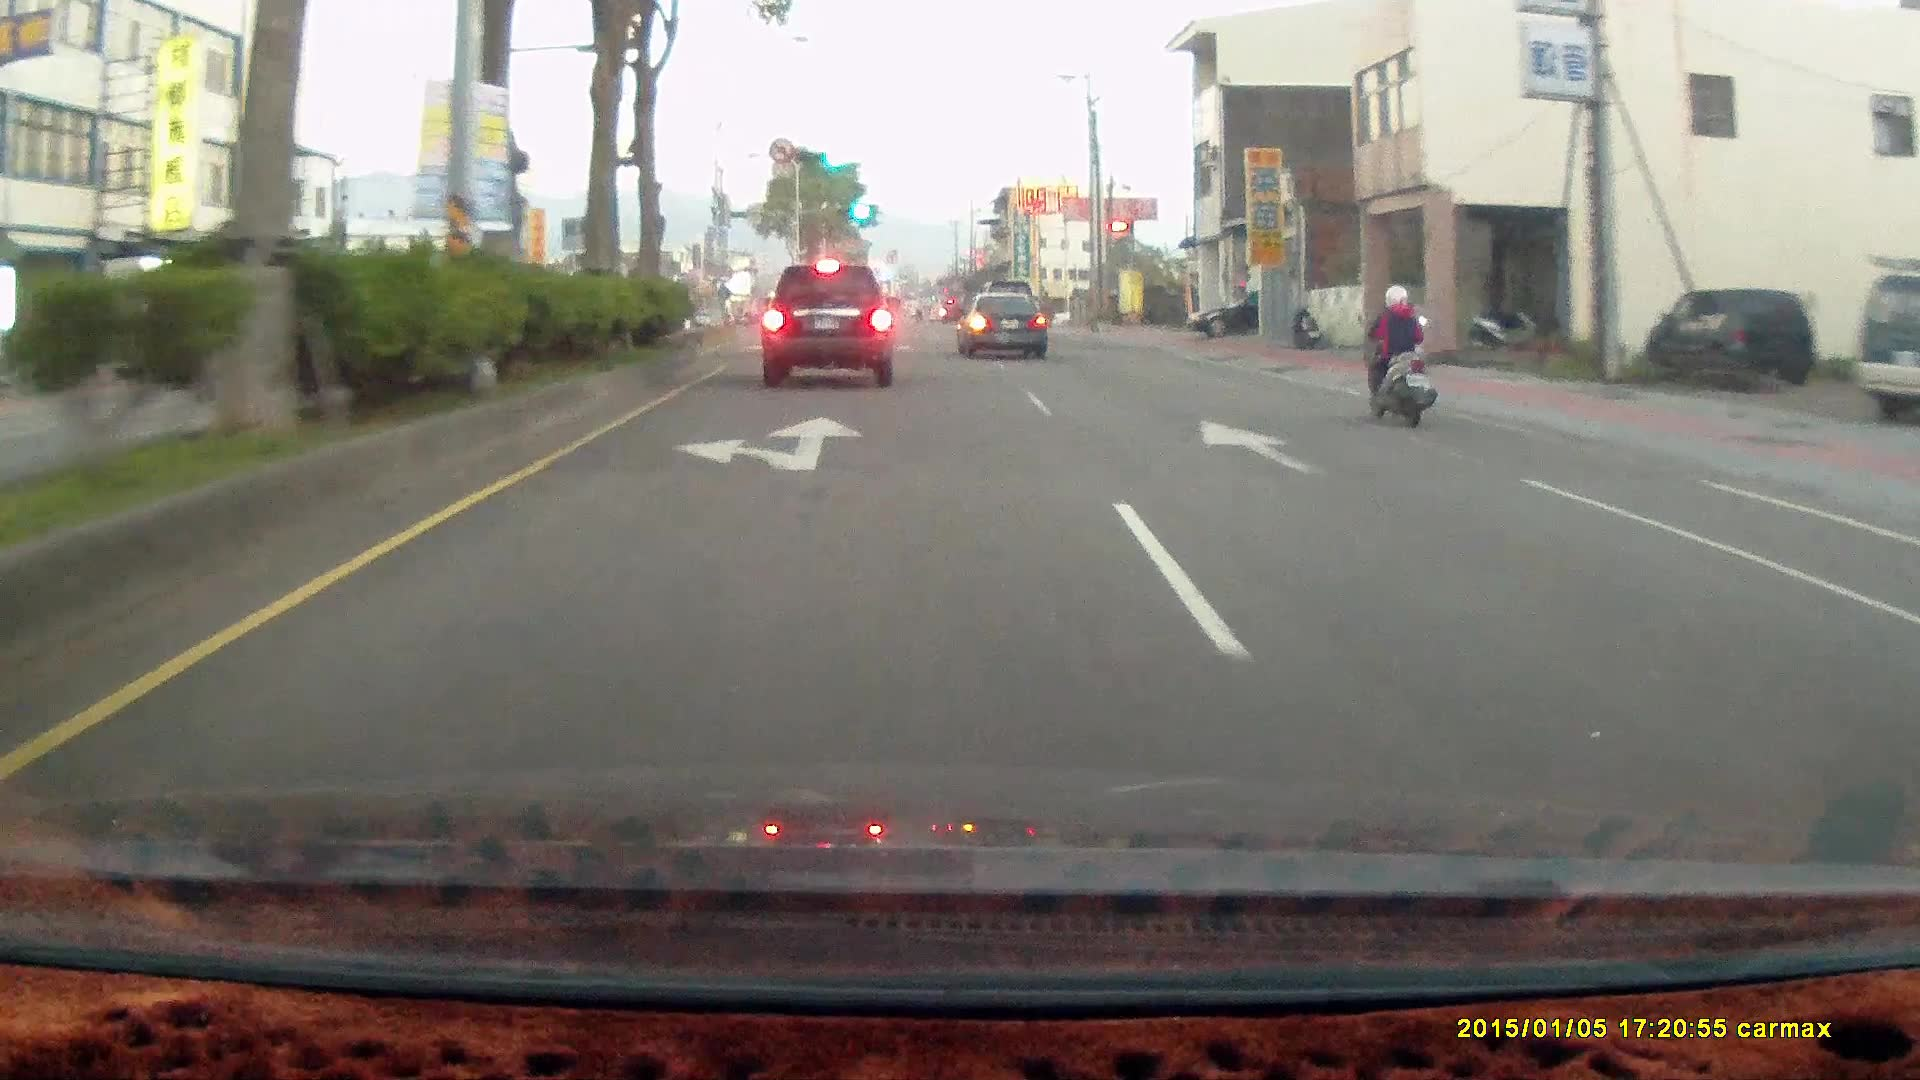rider: (1346, 269, 1449, 437), (1358, 282, 1437, 427)
vehicle: (1642, 282, 1818, 384), (763, 259, 899, 384), (1643, 287, 1815, 386), (762, 262, 900, 385), (1854, 272, 1920, 420), (955, 289, 1052, 361), (1187, 286, 1318, 336), (954, 292, 1045, 358), (1187, 287, 1263, 338)
